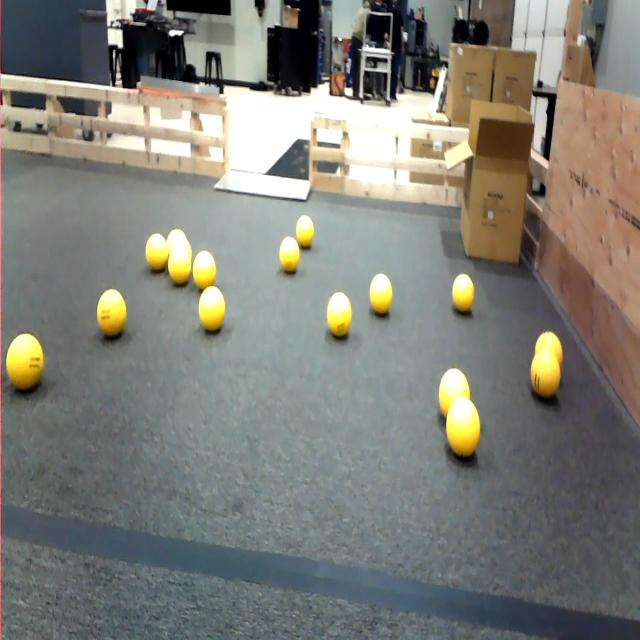fuel: (6, 333, 44, 391), (446, 398, 480, 457), (439, 368, 470, 417), (531, 350, 561, 399), (97, 289, 126, 337), (199, 287, 225, 331), (327, 293, 351, 337), (535, 332, 562, 368), (168, 244, 191, 285), (370, 273, 392, 314), (193, 251, 216, 290), (452, 274, 474, 312), (146, 233, 168, 271), (280, 237, 299, 272), (296, 215, 314, 247), (170, 239, 192, 261), (167, 229, 186, 253)
